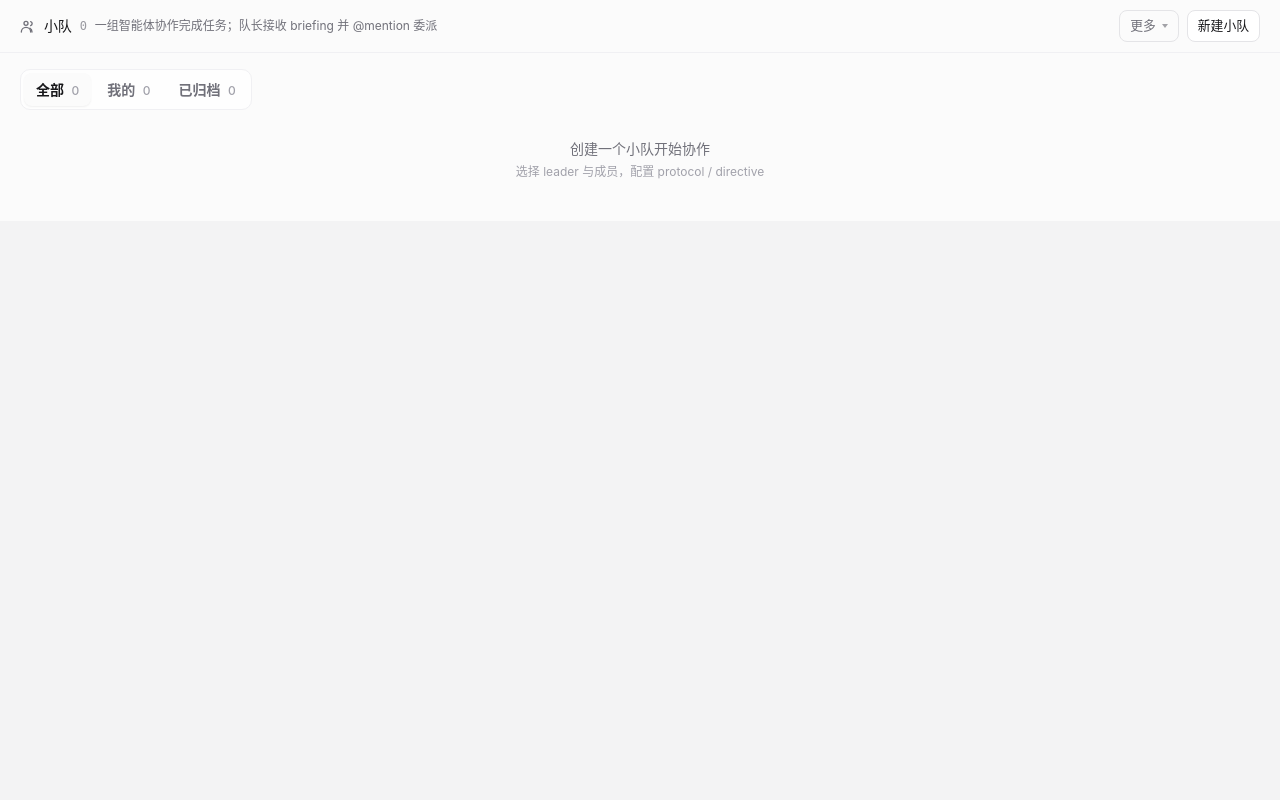
Test: SquadsPage › toggles create form on button click
The width and height of the screenshot is (1280, 800).
Click the button with test id "squads-new-btn": (1223, 26) x1=1187 y1=10 x2=1260 y2=42
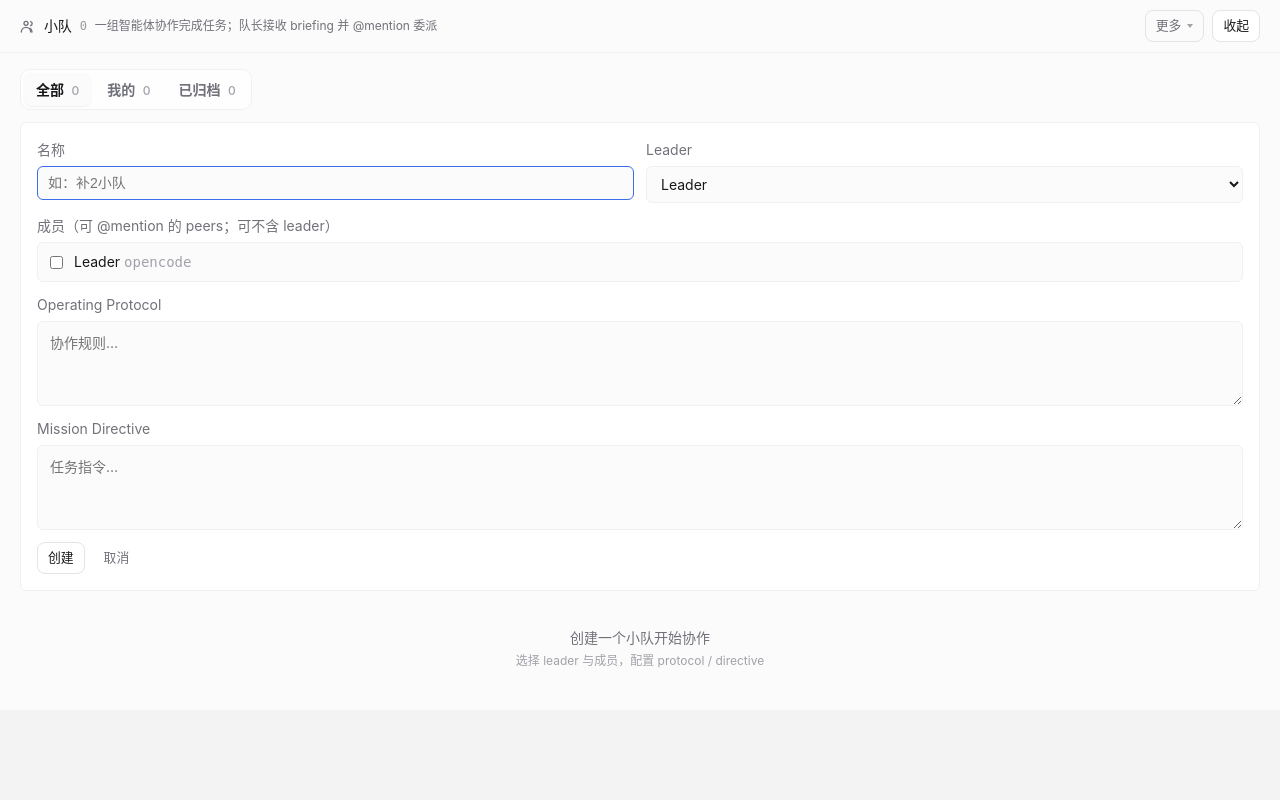
Now the button with test id "squads-new-btn" reads "收起", box x1=1212 y1=10 x2=1260 y2=42
Now the field with placeholder "如：补2小队" is shown, box x1=37 y1=166 x2=634 y2=200
